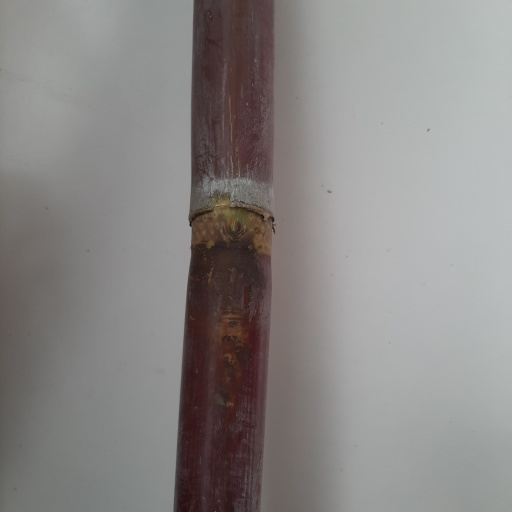Bud: (223, 212, 246, 241)
